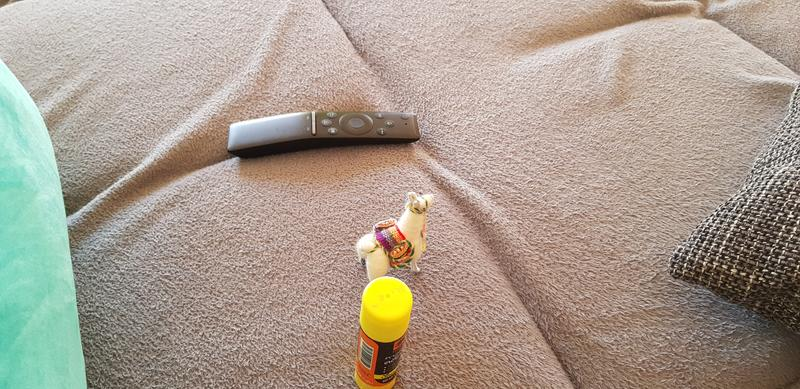Glue-Stick: (353, 275, 414, 389)
Horse-Toy: (350, 188, 436, 280)
